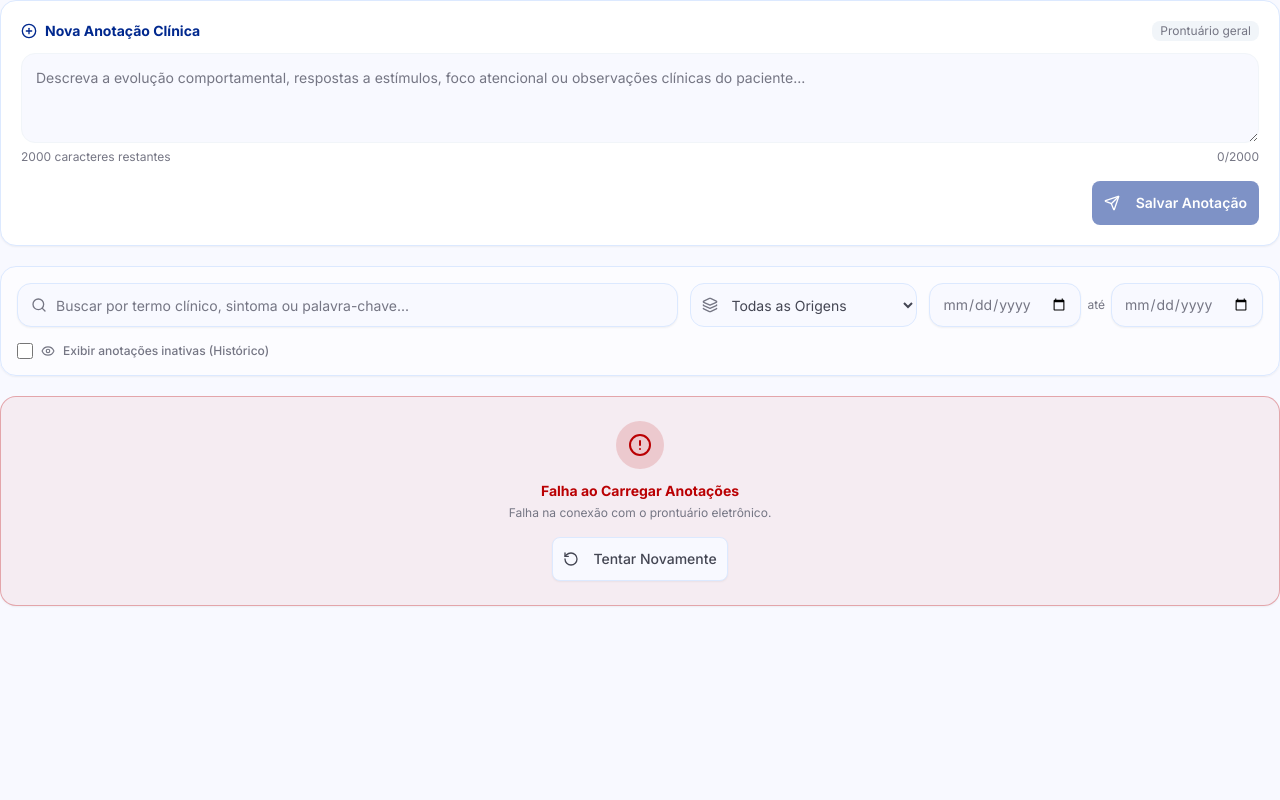
Test case: GerenciadorAnotacoesProntuario e Componentes Modulares (Sprint 12) › 1. Cobertura dos 4 Estados Visuais da Listagem › deve renderizar o Error State com botão de retry quando houver falha de rede/serviço
Check: the element with test id "anotacoes-error" is shown, box [0,396,1279,606]
Check: the text "Falha na conexão com o prontuário eletrônico." is shown, box [509,505,771,521]
Click the button with test id "botao-retry-anotacoes".
click(640, 559)  # box [552,537,728,581]
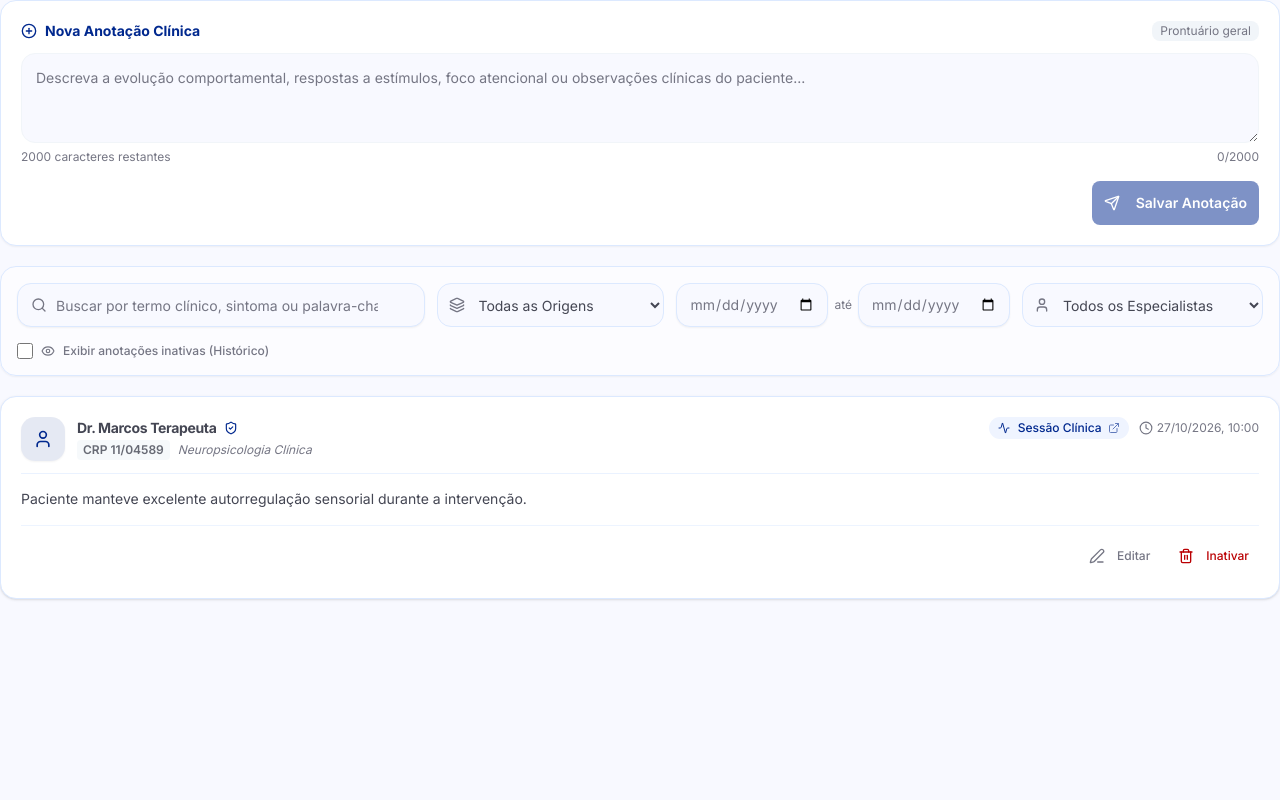
Check: the element with test id "anotacoes-lista" is shown, box [0,396,1279,599]
